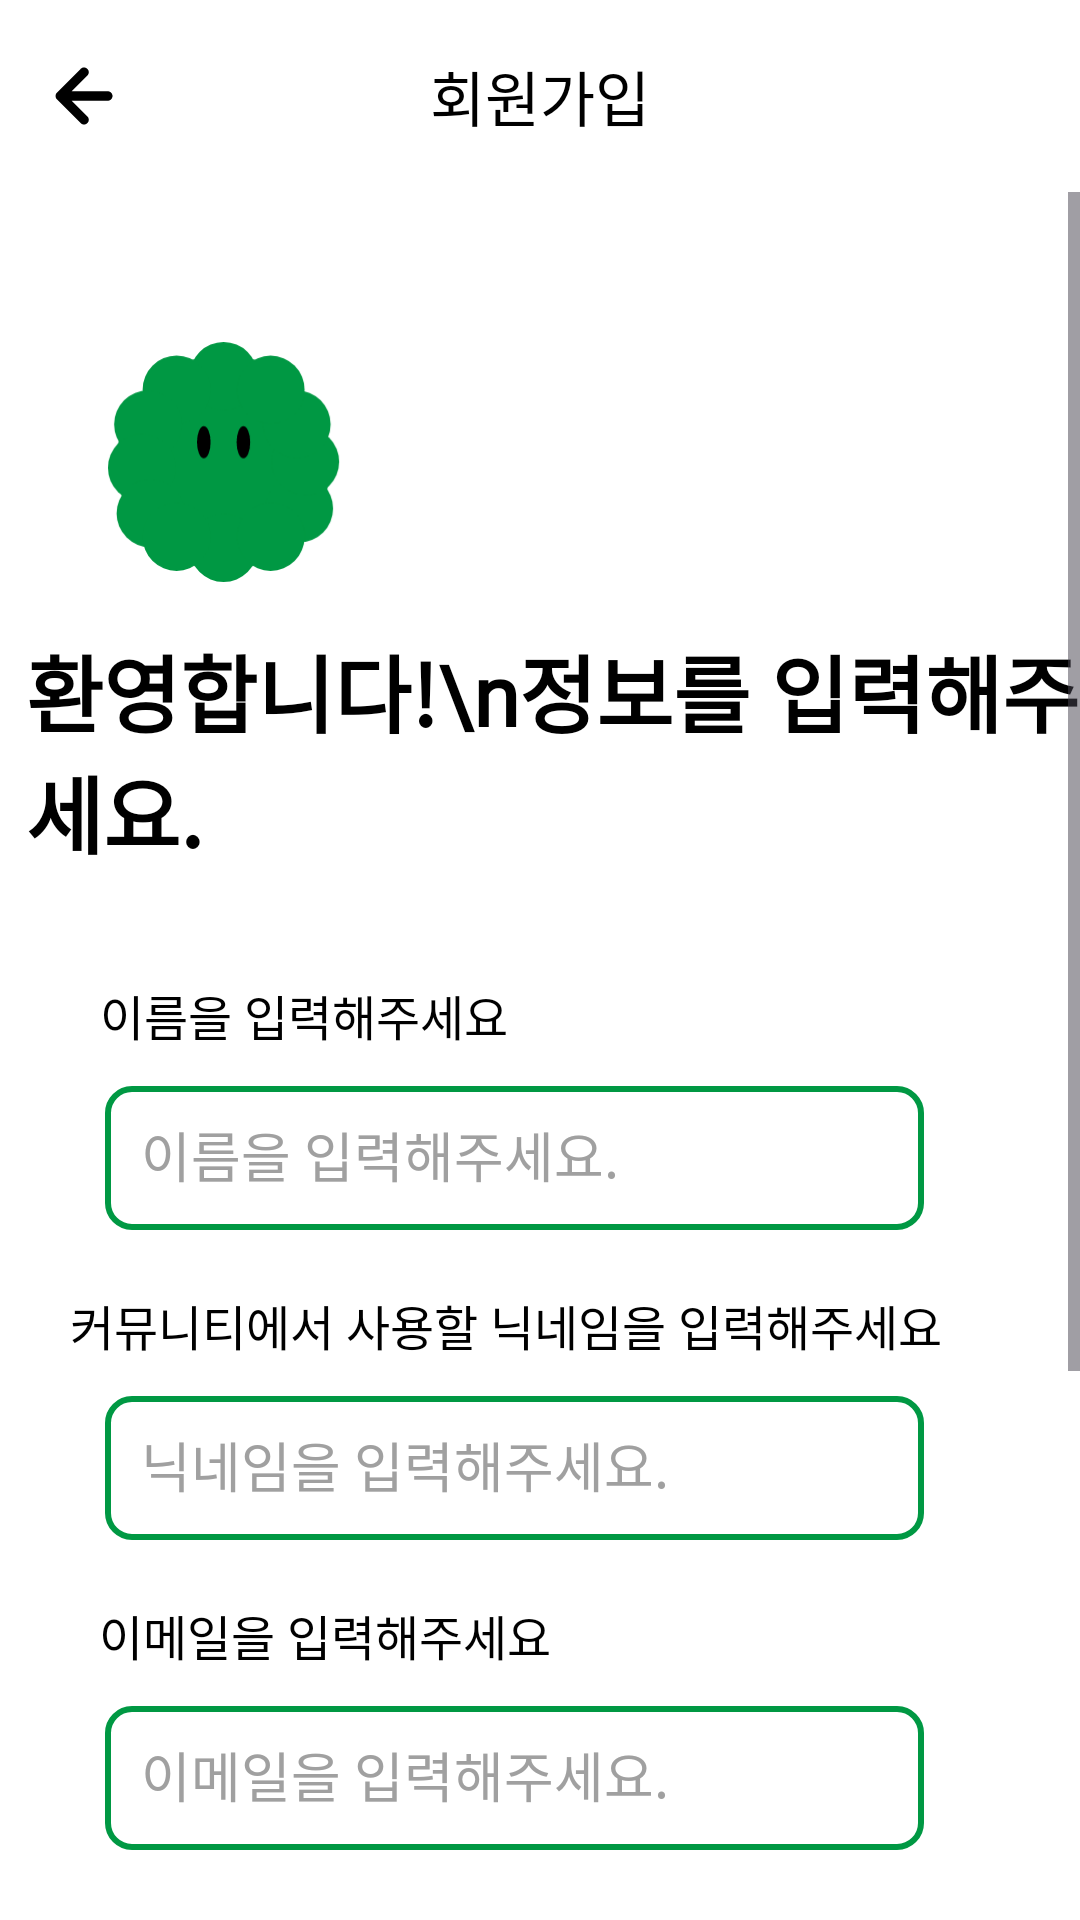

Screen size 1080 x 1920. Icon name, then its box in pixels as {"left": x1, "top": y1, "right": x2, "bottom": y2}:
cookie time: {"left": 108, "top": 342, "right": 340, "bottom": 582}
